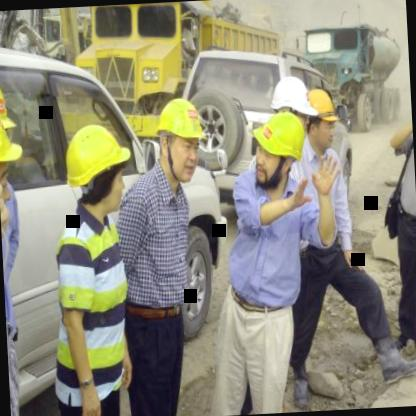helmet: (60, 119, 133, 214), (150, 90, 210, 186), (248, 108, 307, 181), (0, 97, 25, 227), (300, 82, 340, 153), (270, 74, 311, 126)
